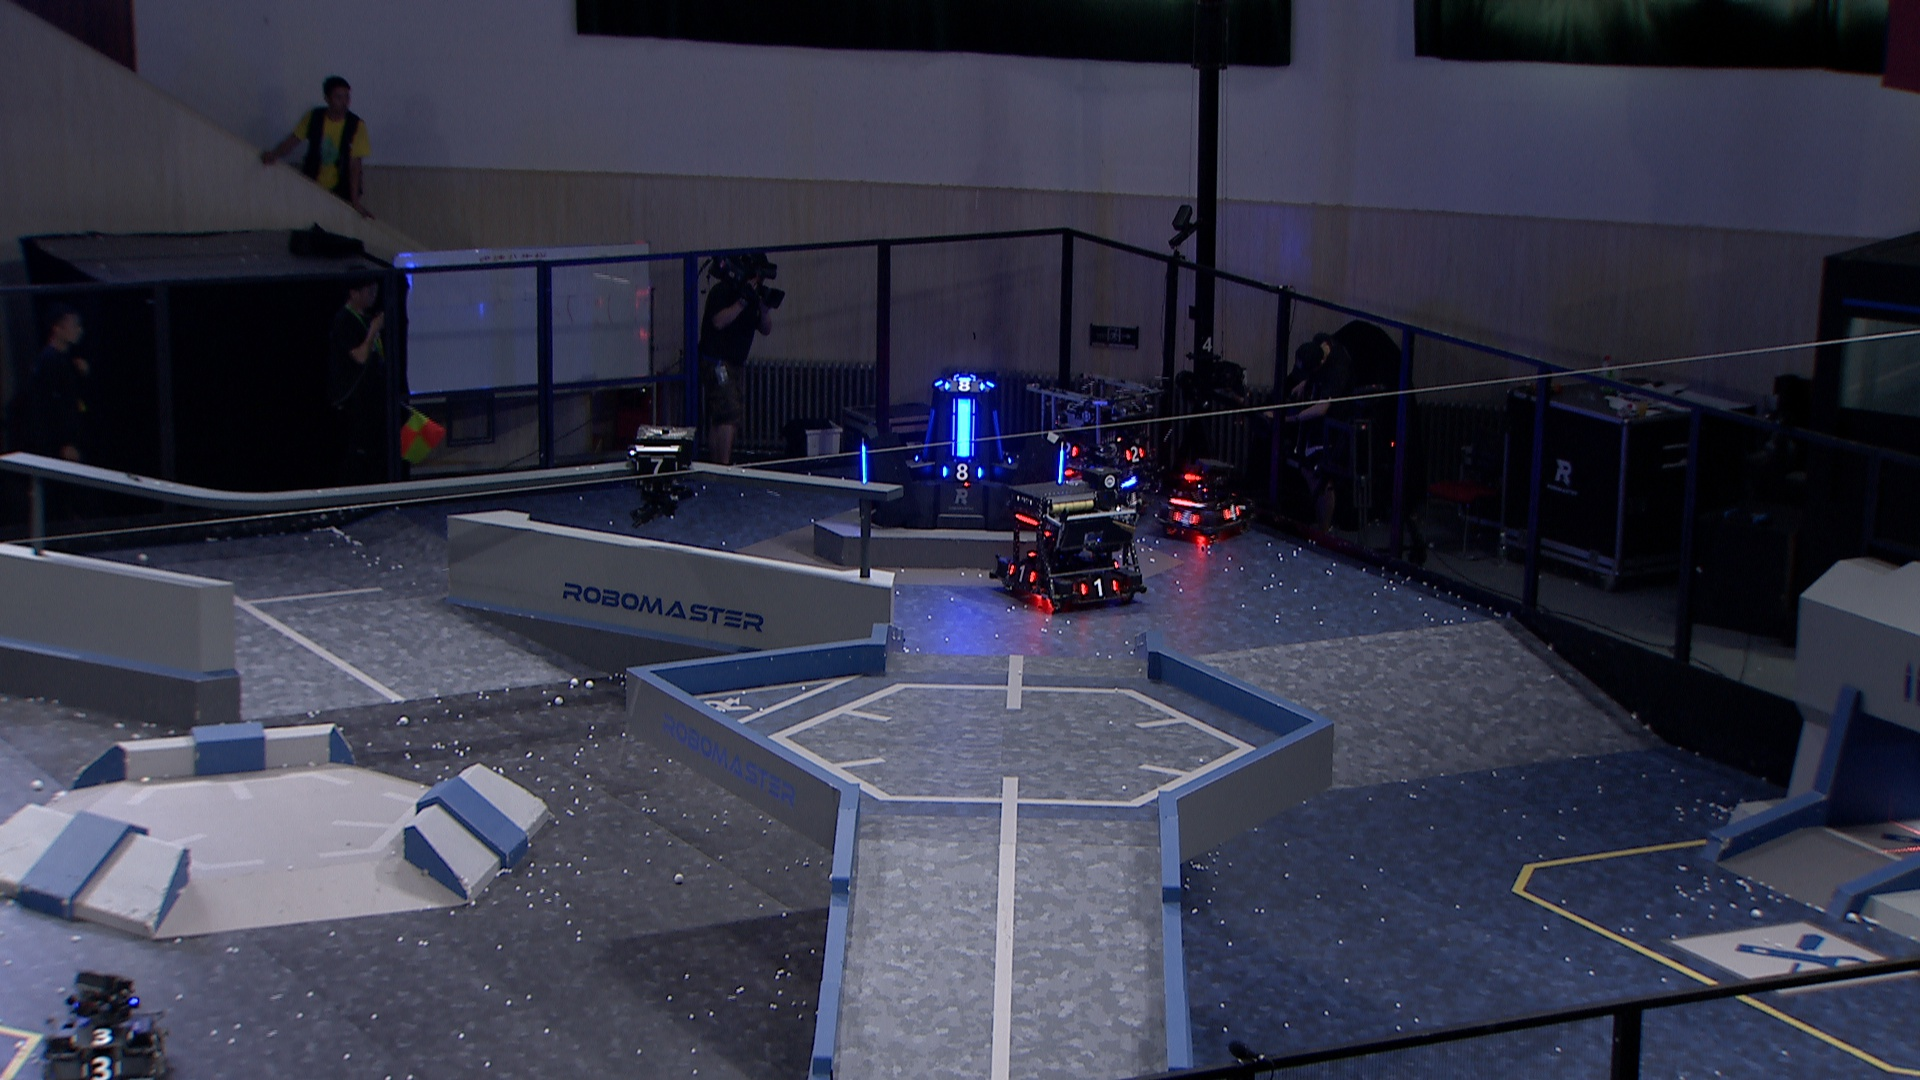armor: (69, 1025, 138, 1048), (953, 394, 975, 458), (78, 1054, 127, 1080), (916, 405, 939, 458), (629, 455, 680, 477), (988, 407, 1007, 462), (1073, 576, 1124, 597), (942, 375, 988, 396), (942, 462, 986, 481), (1006, 560, 1040, 585), (140, 1030, 167, 1060), (1172, 506, 1201, 527), (1122, 442, 1147, 465), (858, 440, 872, 485), (1218, 501, 1244, 524), (1054, 443, 1067, 485)
base: (851, 368, 1076, 534)
car: (989, 475, 1150, 617), (1031, 371, 1168, 502), (40, 971, 178, 1080), (1150, 458, 1258, 543)
watcher: (622, 419, 703, 526)
